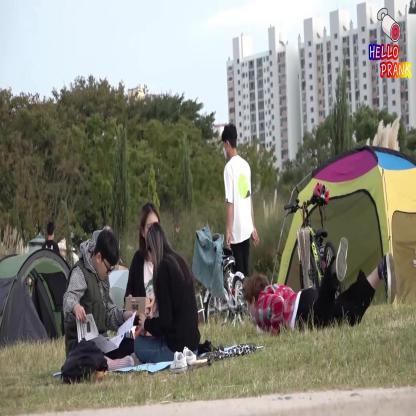Fall_Down: (242, 236, 396, 341)
